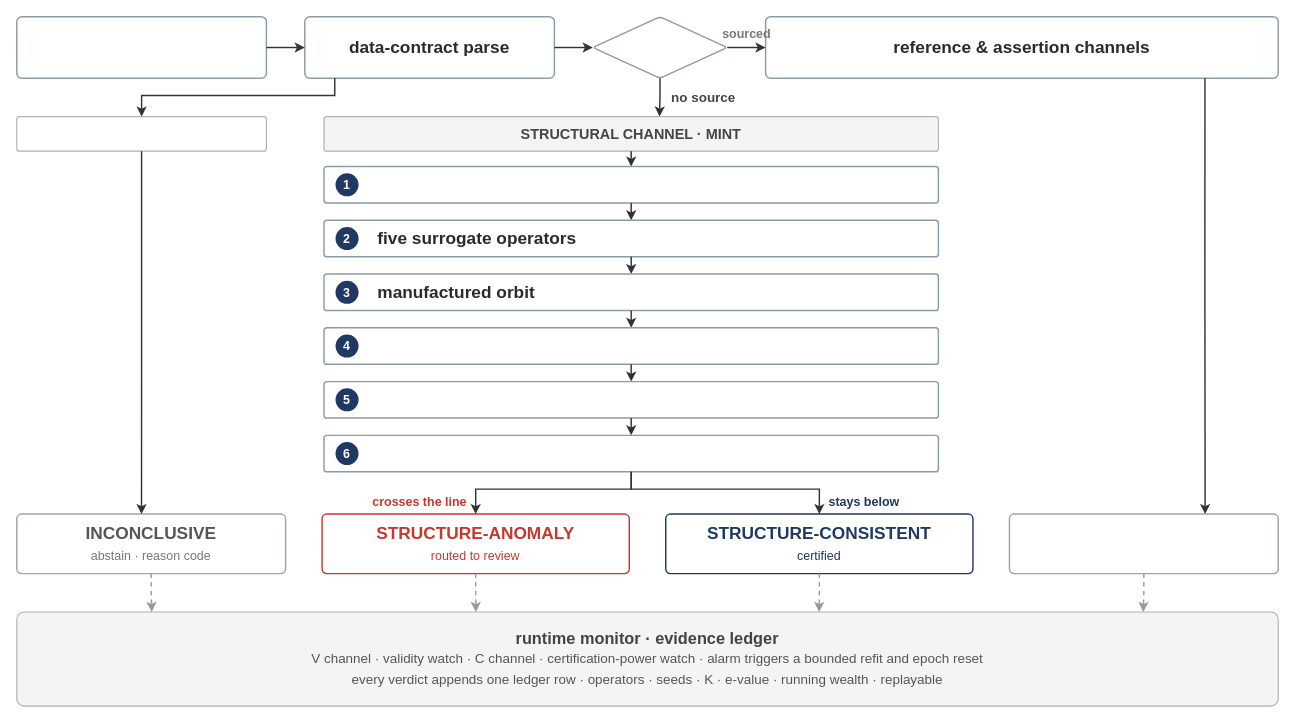
Image size: 1296x724. Some labels were removed from this diagram. Each missing label, with the box of its shape:
LLM numeric output: (16, 16, 267, 79)
not parseable: (16, 116, 266, 151)
orbit-contrastive training: (323, 327, 939, 365)
orbit-normalized e-value: (323, 434, 939, 472)
rank normalization: (323, 165, 939, 203)
REFERENCE-MISMATCH beyond tolerance: (1008, 513, 1279, 574)
source?: (592, 16, 727, 79)
surviving structure: (323, 380, 939, 418)
